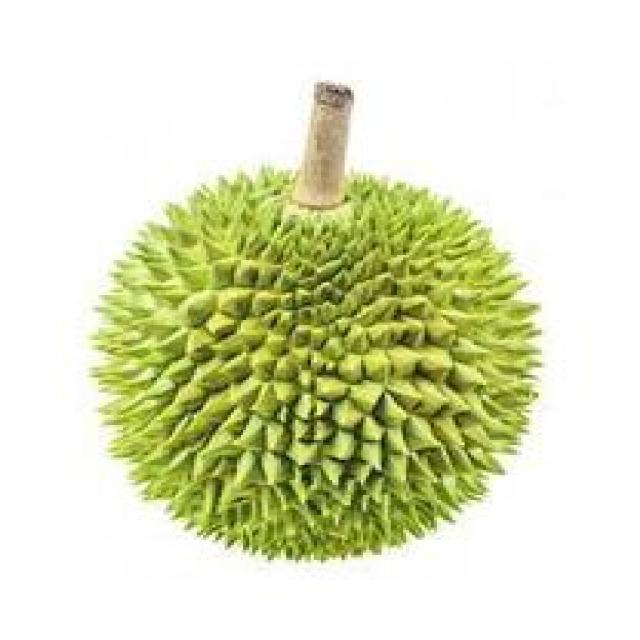fruit: (185, 155, 600, 620), (43, 235, 412, 613)
